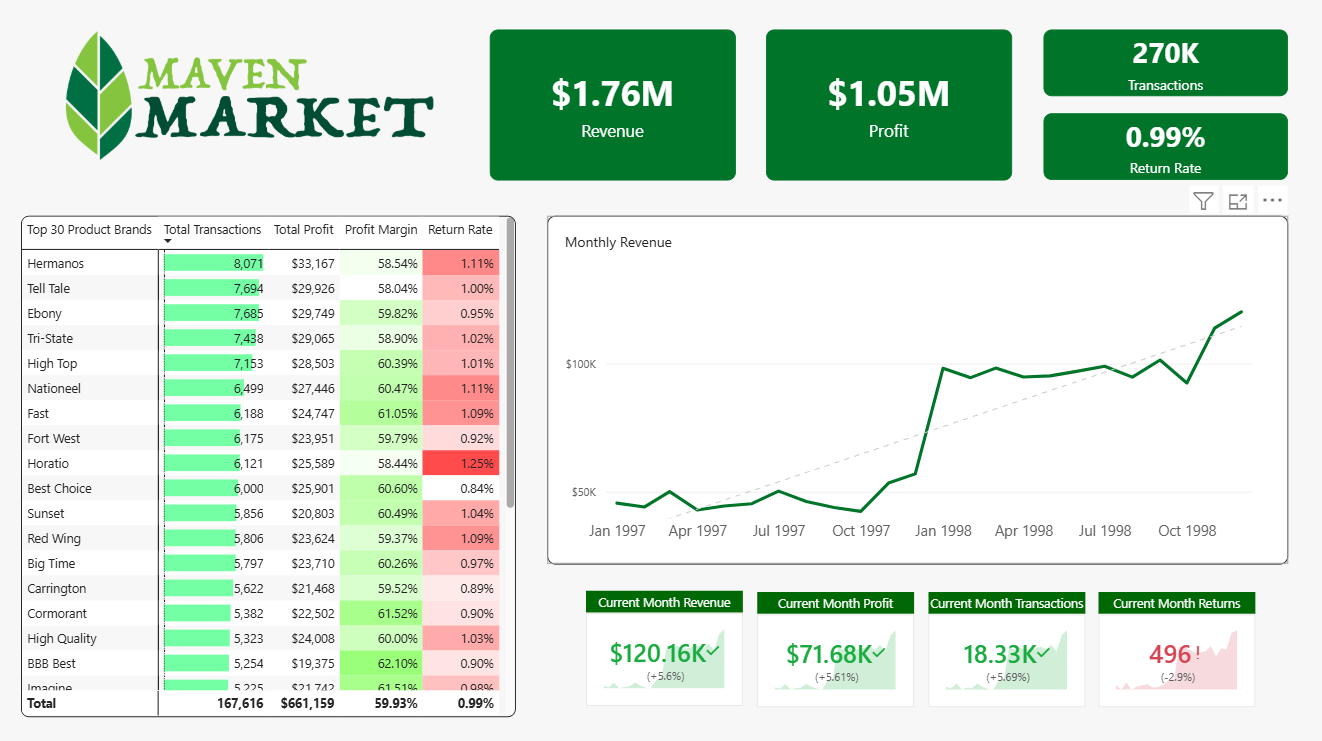

Layout of this report page (visuals, bound fields, positions):
{"tool":"powerbi","page":{"name":"Main Dashboard","canvas":[1280,720],"ordinal":0},"visuals":[{"type":"image","box":[56.3,13,370.8,161.6],"z":1000},{"type":"card","title":"Revenue","fields":{"Values":["Measure.Total Revenue"]},"box":[473.5,31.3,235.6,145.2],"z":2000},{"type":"card","title":"Revenue","fields":{"Values":["Measure.Total Profit"]},"box":[738,31.3,235.6,145.2],"z":3000},{"type":"card","title":"Revenue","fields":{"Values":["Measure.Return Rate"]},"box":[1003.9,111.7,234.5,63.6],"z":4000},{"type":"lineChart","title":"Monthly Revenue","fields":{"Category":["Calendar.Start of Month.Variation.Date Hierarchy.Year"],"Y":["Measure.Total Revenue"]},"box":[528.5,209.7,710.7,334.4],"z":5000},{"type":"pivotTable","fields":{"Rows":["Products.product_brand"],"Values":["Measure.Total Transactions","Measure.Total Profit","Measure.Profit Margin","Measure.Return Rate"]},"box":[24.5,209.2,474.7,480.4],"z":6000},{"type":"card","title":"Revenue","fields":{"Values":["Measure.Total Transactions"]},"box":[1003.9,31.3,234.5,63.6],"z":7000},{"type":"group","id":"g1","title":"Group 1","box":[566.3,569.5,149.6,110.5],"z":8000},{"type":"kpi","fields":{"Goal":["Measure.Last Month Revenue"],"Indicator":["Measure.Total Revenue"],"TrendLine":["Calendar.Start of Month"]},"box":[566.3,590.5,150,89],"z":8000,"group":"g1"},{"type":"kpi","fields":{"Goal":["Measure.Last Month Profit"],"Indicator":["Measure.Total Profit"],"TrendLine":["Calendar.Start of Month"]},"box":[730,591.6,150,89],"z":8000,"group":"g4"},{"type":"kpi","fields":{"Goal":["Measure.Last Month Transactions"],"Indicator":["Measure.Total Transactions"],"TrendLine":["Calendar.Start of Month"]},"box":[893.8,591.6,150,89],"z":8000,"group":"g2"},{"type":"textbox","box":[566.3,569.5,150,21],"z":9000,"group":"g1"},{"type":"textbox","box":[730,570.6,150,21],"z":9000,"group":"g4"},{"type":"textbox","box":[893.8,570.6,150,21],"z":9000,"group":"g2"},{"type":"group","id":"g2","title":"Group 2","box":[893.8,570.6,149.6,109.4],"z":9000},{"type":"group","id":"g3","title":"Group 3","box":[1057.6,570.6,149.6,110.5],"z":10000},{"type":"kpi","fields":{"Goal":["Measure.Last Month Return"],"Indicator":["Measure.Total Returns"],"TrendLine":["Calendar.Start of Month"]},"box":[1057.6,591.6,150,89],"z":10000,"group":"g3"},{"type":"group","id":"g4","title":"Group 1","box":[730,570.6,149.6,109.4],"z":11000},{"type":"textbox","box":[1057.6,570.6,150,21],"z":11000,"group":"g3"}]}

Visuals, with their boxes in screenshot pixels (x1, y1, x2, y2), scaled from the page's 1280x720 canvas onto the 1322x741 screenshot:
image: 58 13 441 180
"Revenue" card: 489 32 732 182
"Revenue" card: 762 32 1006 182
"Revenue" card: 1037 115 1279 180
"Monthly Revenue" lineChart: 546 216 1280 560
pivotTable - Products.product_brand x Measure.Total Transactions: 25 215 516 710
"Revenue" card: 1037 32 1279 98
"Group 1" group: 585 586 739 700
kpi - Measure.Last Month Revenue x Measure.Total Revenue: 585 608 740 699
kpi - Measure.Last Month Profit x Measure.Total Profit: 754 609 909 700
kpi - Measure.Last Month Transactions x Measure.Total Transactions: 923 609 1078 700
textbox: 585 586 740 608
textbox: 754 587 909 609
textbox: 923 587 1078 609
"Group 2" group: 923 587 1078 700
"Group 3" group: 1092 587 1247 701
kpi - Measure.Last Month Return x Measure.Total Returns: 1092 609 1247 700
"Group 1" group: 754 587 908 700
textbox: 1092 587 1247 609
